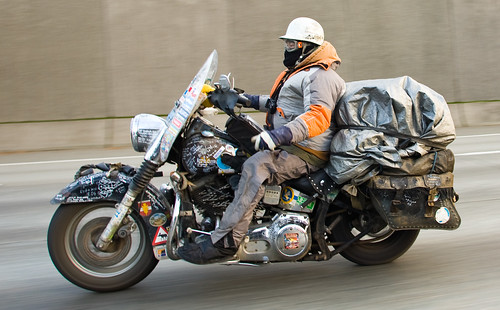person hardhat: (55, 8, 465, 290)
